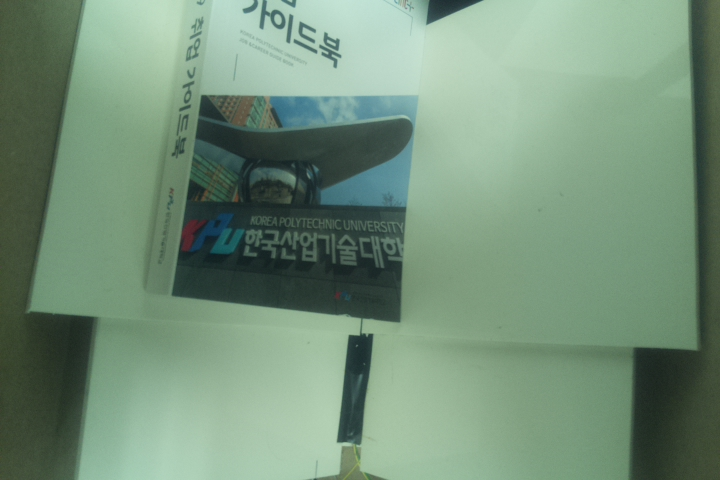book: (139, 1, 442, 327)
